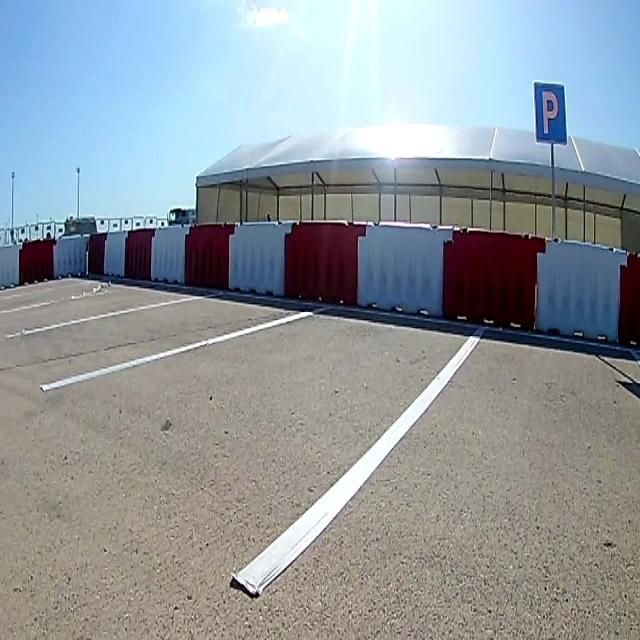park: (534, 80, 567, 146)
